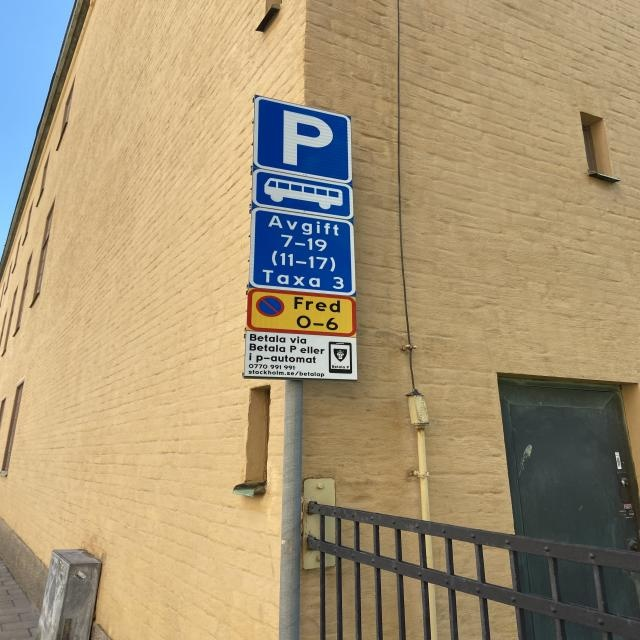P-skylt: (255, 94, 352, 185)
